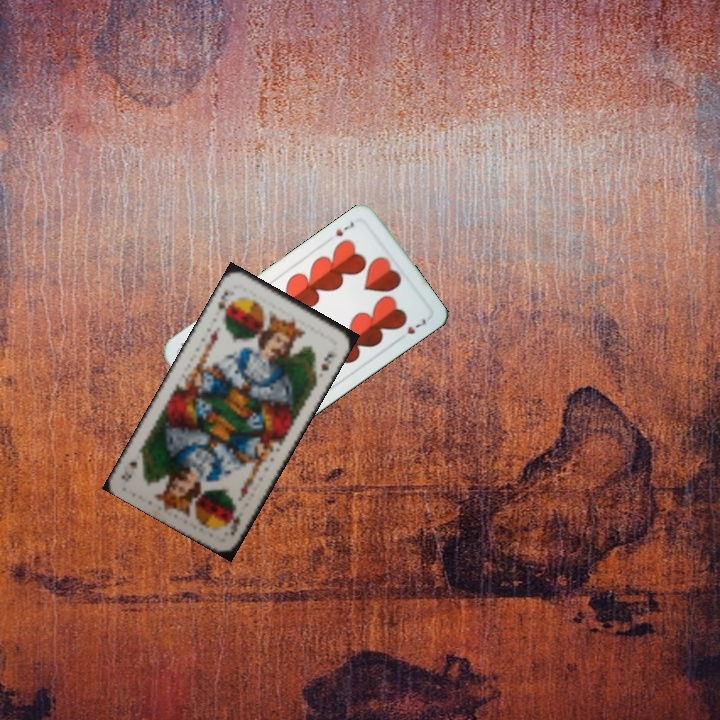H7: (332, 218, 357, 239)
SK: (213, 286, 235, 321), (223, 512, 244, 538)
